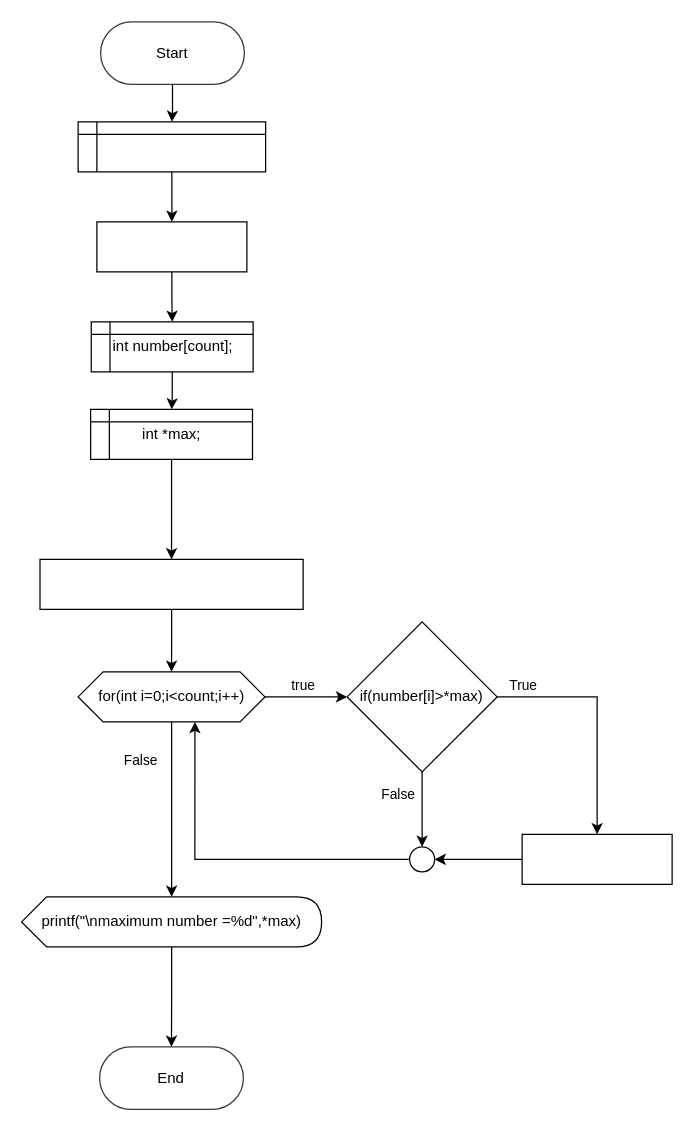
Some shapes in this 695 by 1131 pixel diagram are drawn without their labels. The centre of each missing label's shape, as x and y in pixels:
"count = 5;" belongs at (171,246).
"int indx,count;" belongs at (171,146).
"max=&number[i]" belongs at (596,858).
"number[]={10,7,18,45,33,23,2,42}" belongs at (171,583).
